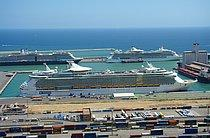Ship: (18, 62, 203, 99), (105, 44, 186, 65), (1, 47, 84, 67)
